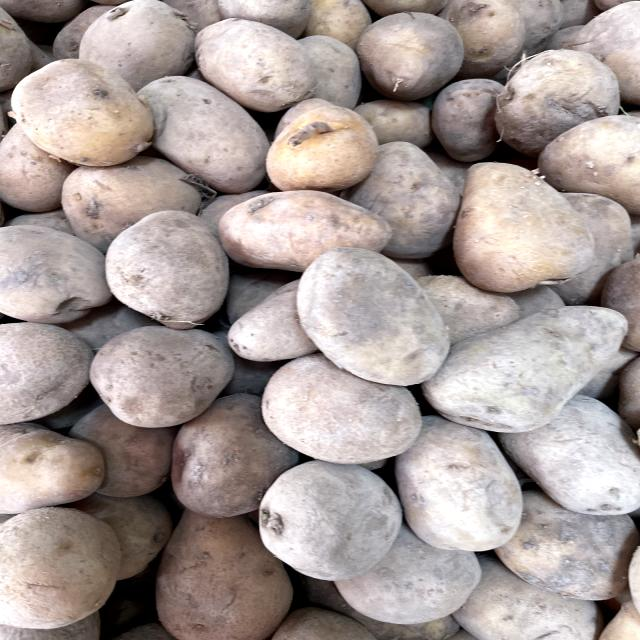potato: (279, 238, 457, 389), (428, 300, 633, 430), (445, 152, 604, 299), (248, 449, 412, 581), (7, 49, 158, 173), (104, 200, 243, 333), (89, 315, 243, 432), (214, 178, 394, 274), (184, 6, 320, 107)
